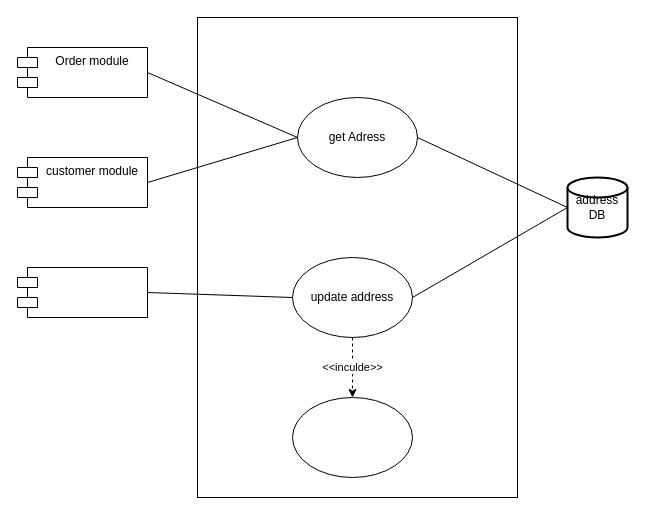
The diagram is 646 pixels wide and 515 high, and some of its shapes have lost their labels. Each missing label, with the centre of its shape:
auto update adresses corn: the point at 352,437
manger module: the point at 82,292
